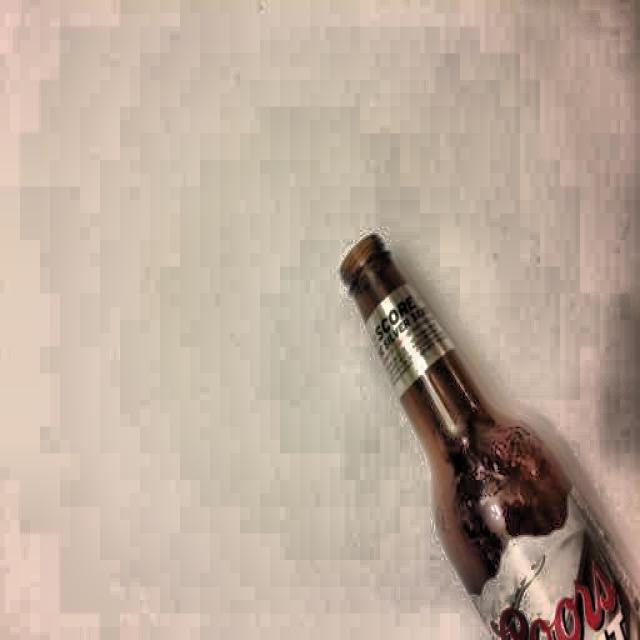glass: (331, 228, 640, 640)
